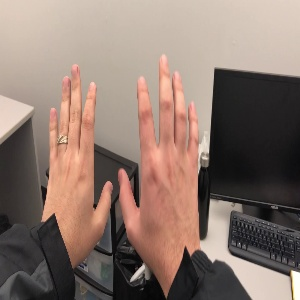hand: (117, 56, 199, 250), (41, 63, 112, 253)
